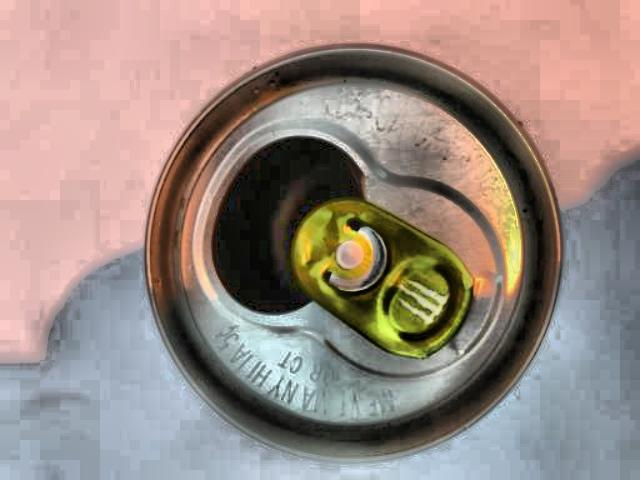Bottles: (121, 32, 575, 480)
